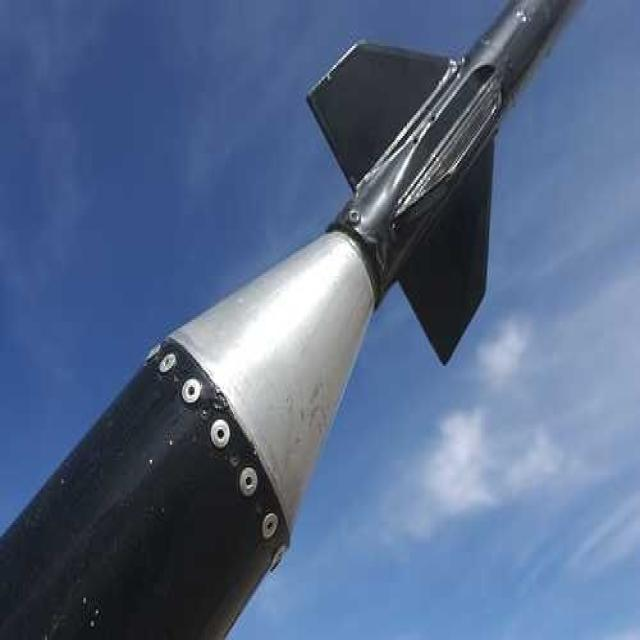missile: (3, 1, 559, 640)
